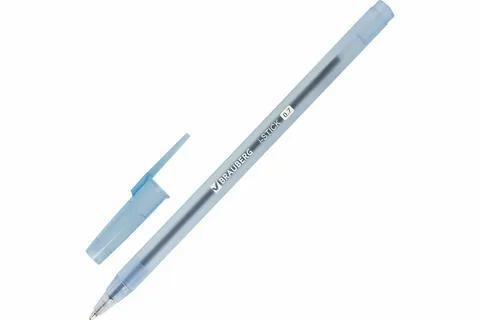pen-pencil: (91, 0, 393, 319), (87, 135, 187, 262)
